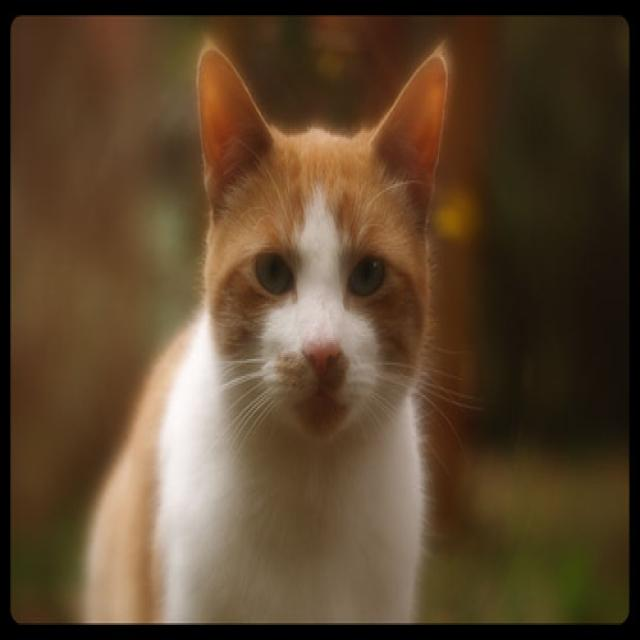cat: (78, 37, 475, 624)
